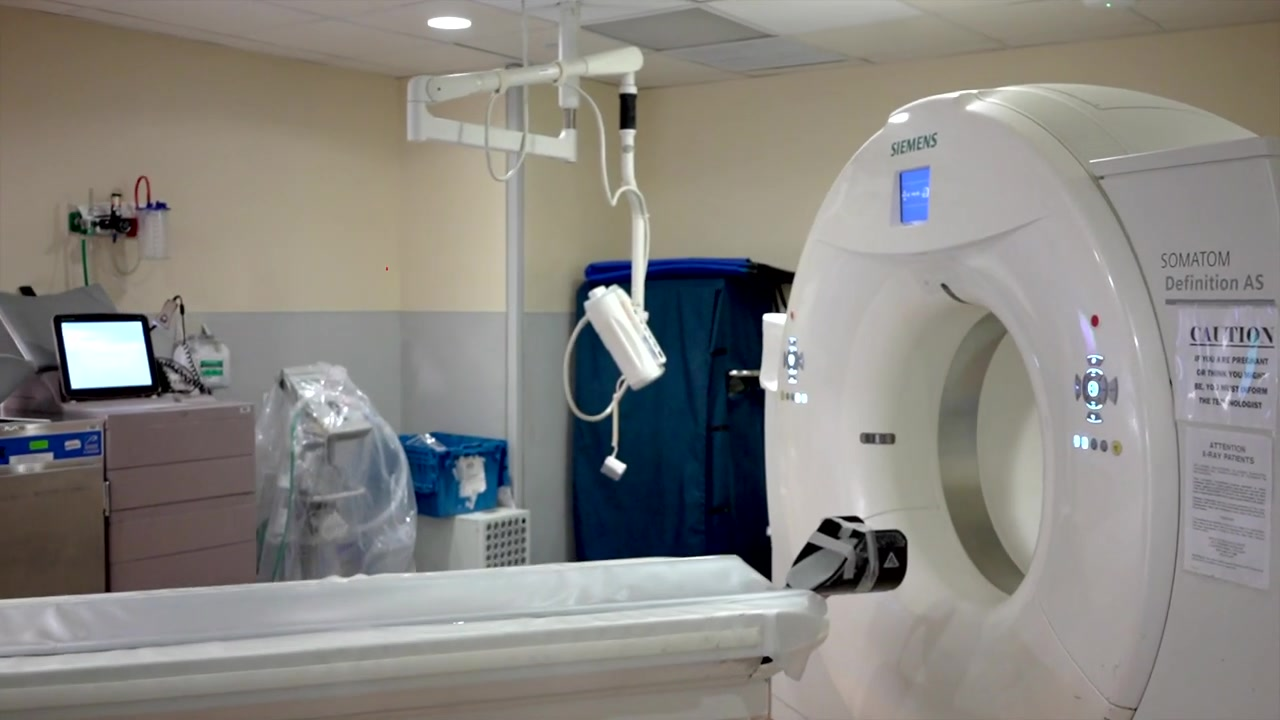bedside_monitor: (52, 314, 163, 400)
drawer: (102, 386, 261, 593)
waste_bin: (405, 431, 513, 518)
xray_bed: (1, 555, 828, 720)
xray_machine: (760, 80, 1280, 720)
